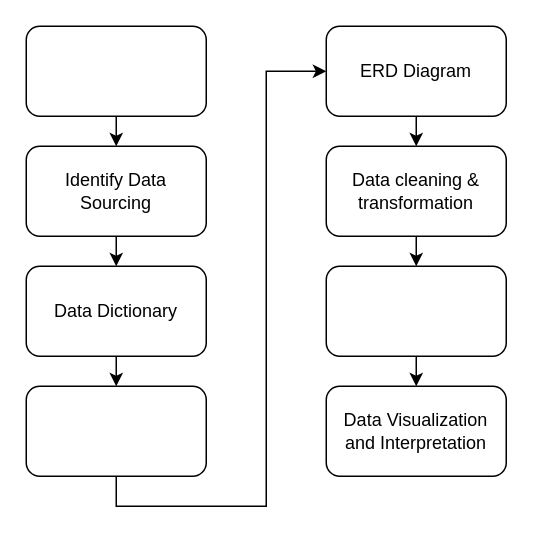
Some shapes in this 533 by 545 pixel diagram are drawn without their labels. Each missing label, with the centre of its shape:
"Database Structuring and Normalization" goes at [115,430].
"Exploratory Data Analysis" goes at [415,310].
"Project Scoping" goes at [115,70].
